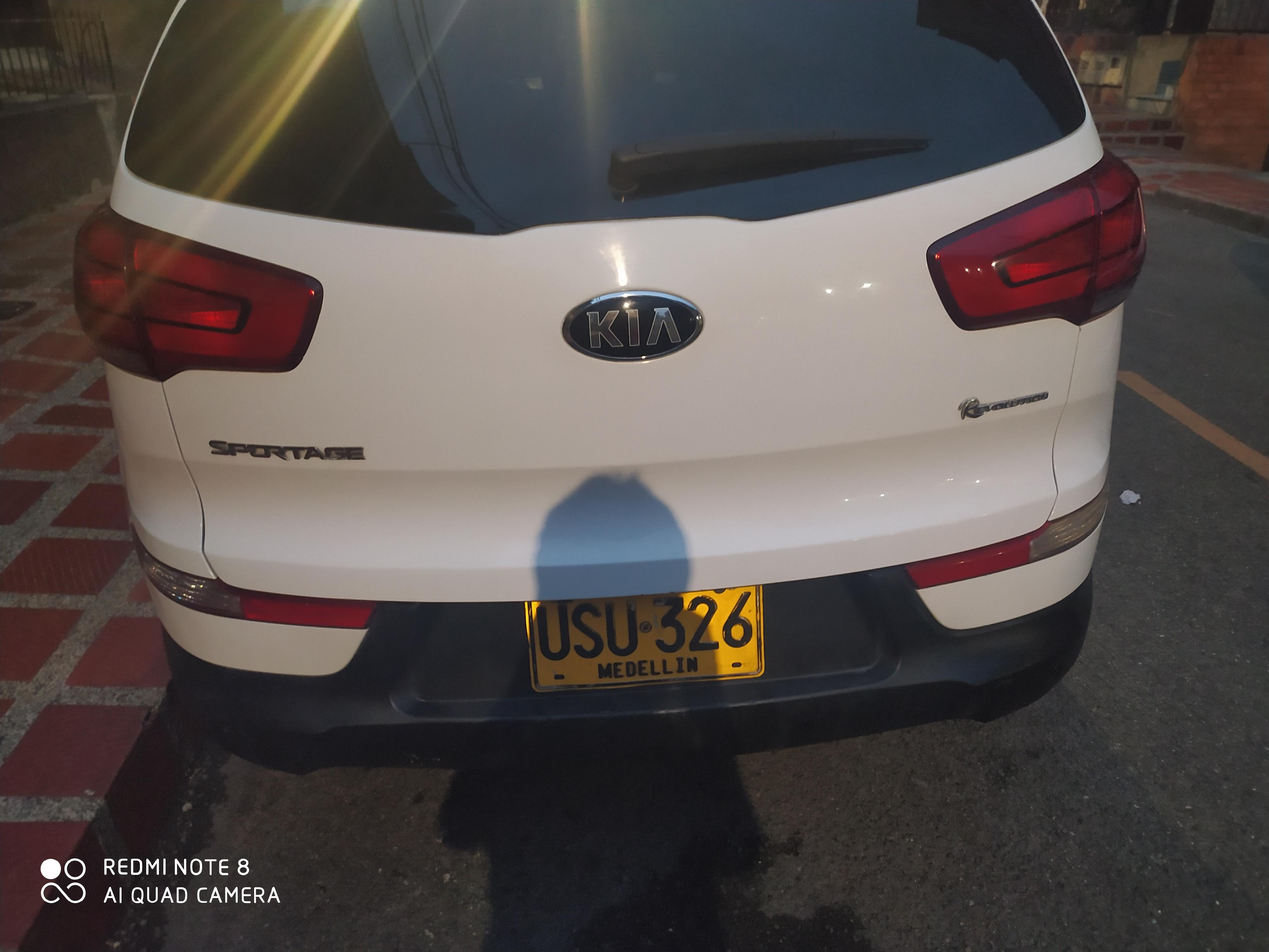placa: (502, 570, 781, 699)
